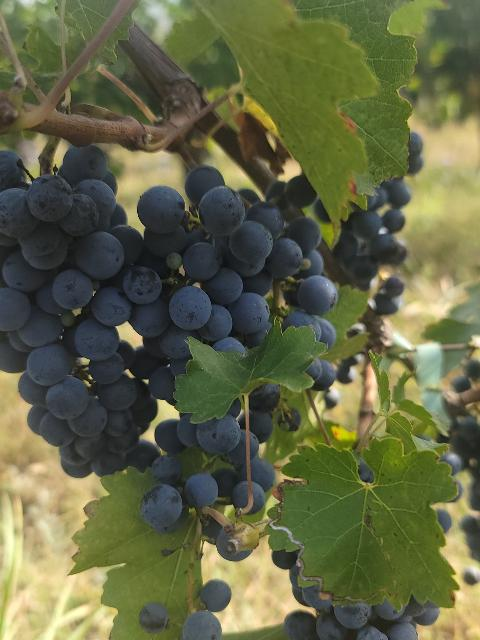grapes: (0, 145, 158, 478), (139, 166, 335, 390), (160, 380, 281, 514)
